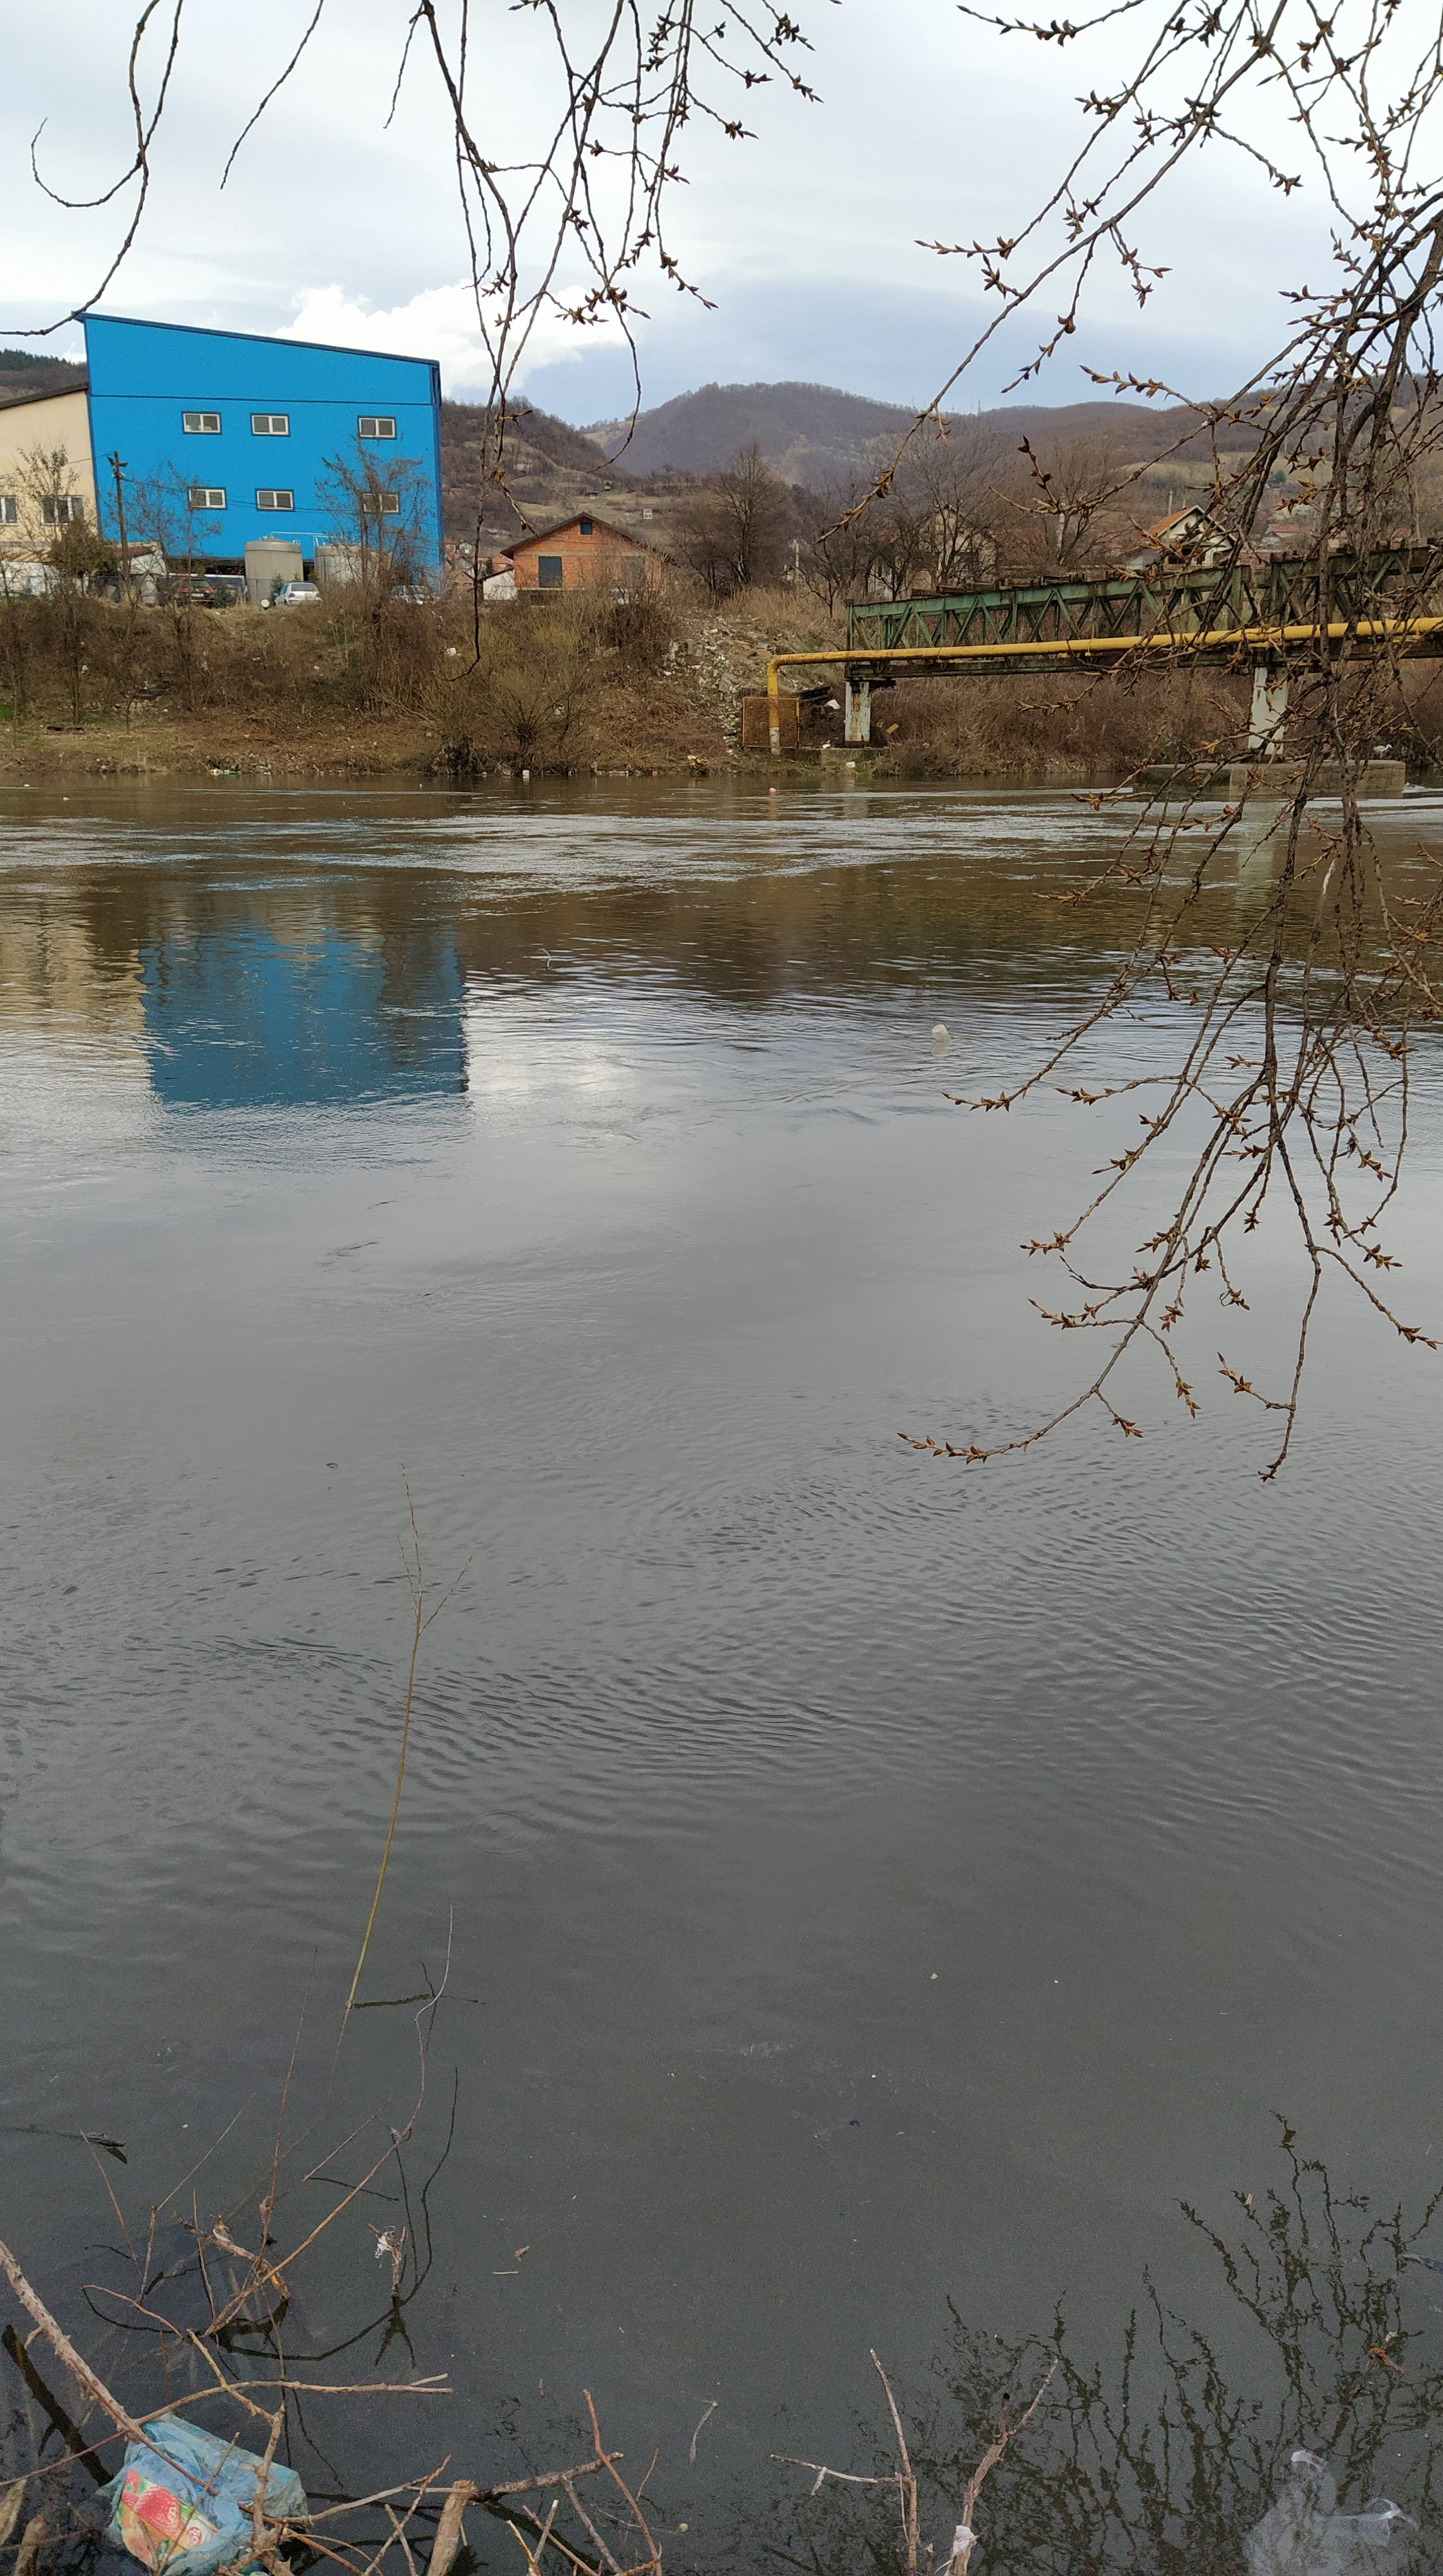Plastic Bottle: (931, 1023, 949, 1042), (228, 770, 237, 775), (770, 787, 777, 793)
